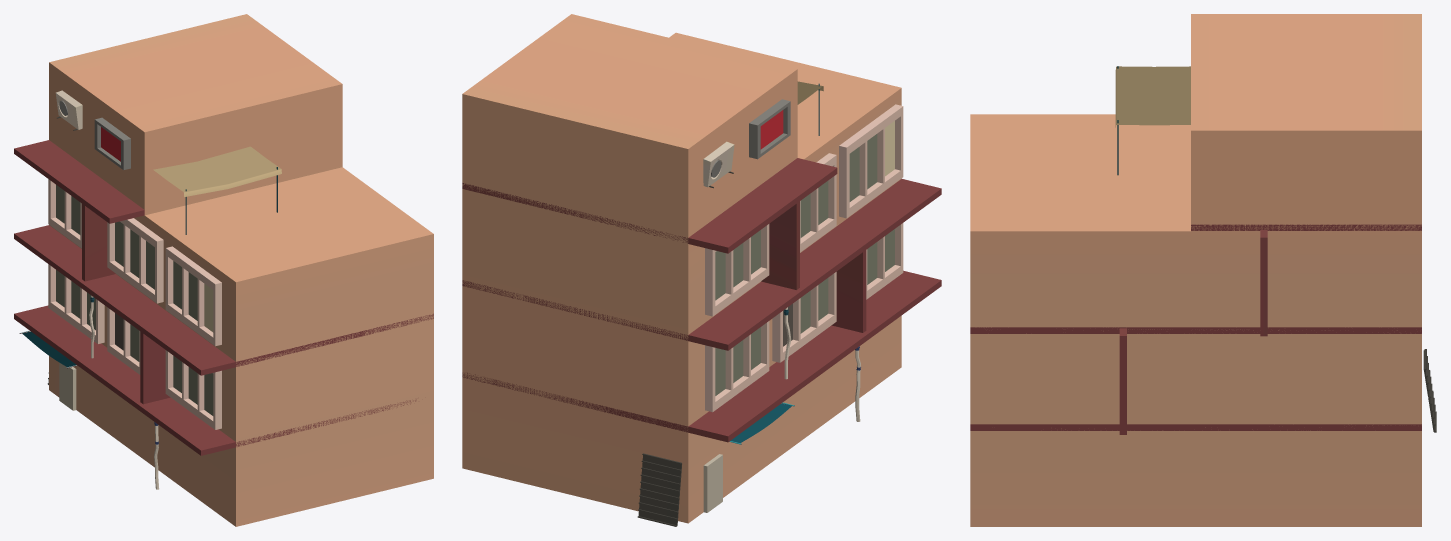
Rendered from Building_06.fbx.
3 renders of one model, left to right at view 1: azimuth 30°, elevation 25°; view 2: azimuth 150°, elevation 25°; view 3: azimuth 270°, elevation 25°, orthographic. The views are drawn at different scales.
Visible parts, largest first — view 1: building, stick_blanket_S, blanket; view 2: building, metal_thing, blanket; view 3: building, stick_blanket_S.
Boxes of the visible parts, box(x1,y1,x2,y2) form: building: box(14, 14, 433, 526); stick_blanket_S: box(153, 146, 281, 234); blanket: box(19, 330, 77, 368); building: box(462, 14, 941, 523); metal_thing: box(637, 453, 681, 526); blanket: box(729, 402, 794, 444); building: box(970, 14, 1421, 526); stick_blanket_S: box(1115, 66, 1190, 175).
Bounding box in the file's own units: 1316 × 1658 × 1769.
